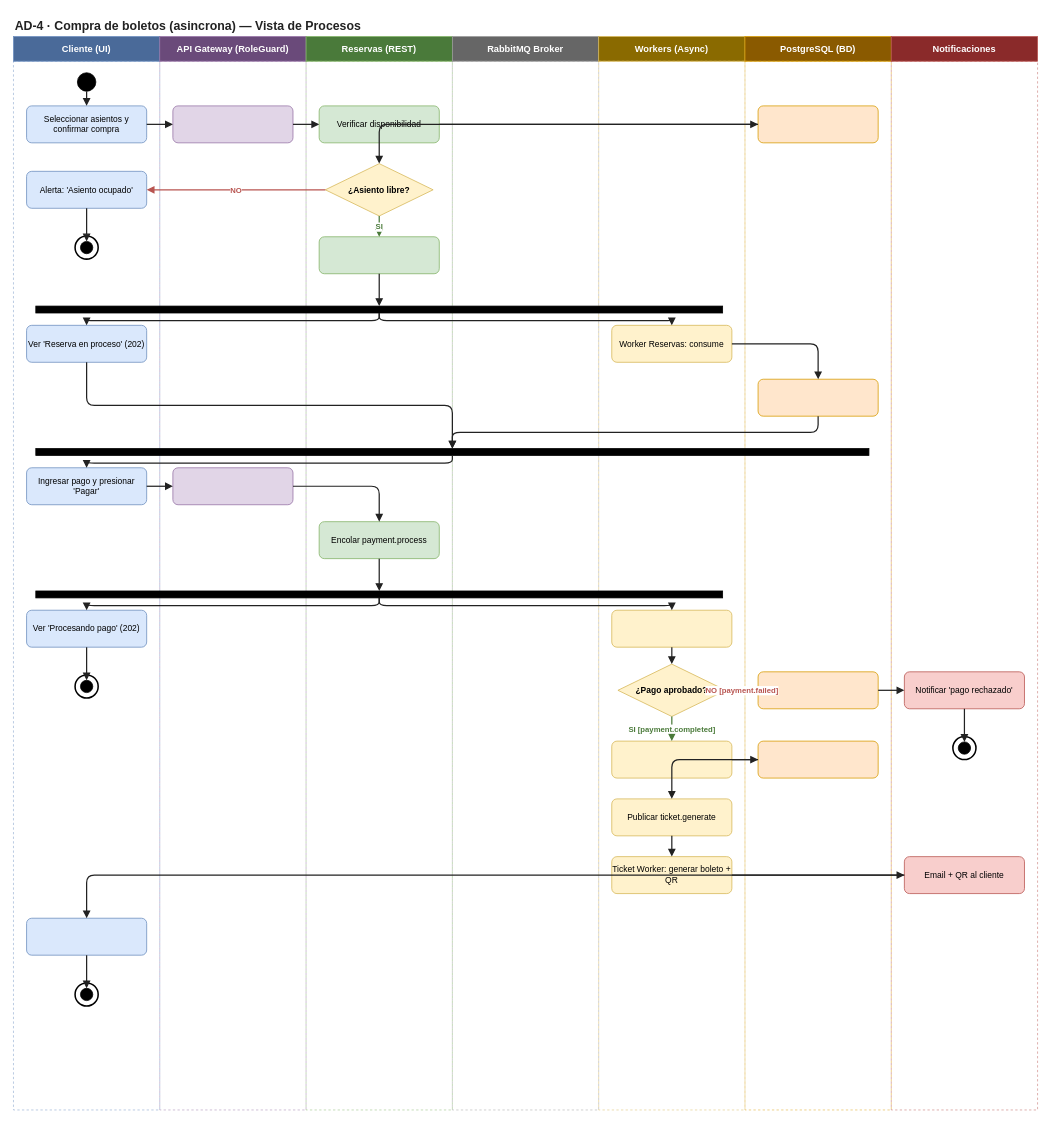
Image size: 1051x1123. Some labels were removed from this diagram. Each missing label, with the box of its shape:
Asiento -> BLOQUEADO (inicia TTL 10 min): (757, 378, 878, 416)
Asiento -> OCUPADO: (757, 740, 878, 778)
Bloqueo de fila (SELECT FOR UPDATE): (757, 105, 878, 143)
Consumidor Reservas: lee payment.completed: (611, 740, 732, 778)
Encolar seat.reservation: (318, 236, 439, 274)
Liberar: BLOQUEADO -> DISPONIBLE: (757, 671, 878, 709)
Mostrar/descargar boleto (PDF): (26, 917, 147, 955)
Rutar /payments: (172, 467, 293, 505)
Validar JWT y rutar /seats/lock: (172, 105, 293, 143)
Worker Pagos: contactar pasarela: (611, 609, 732, 647)
